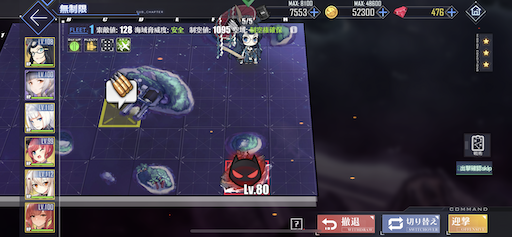boss: (224, 157, 267, 194)
